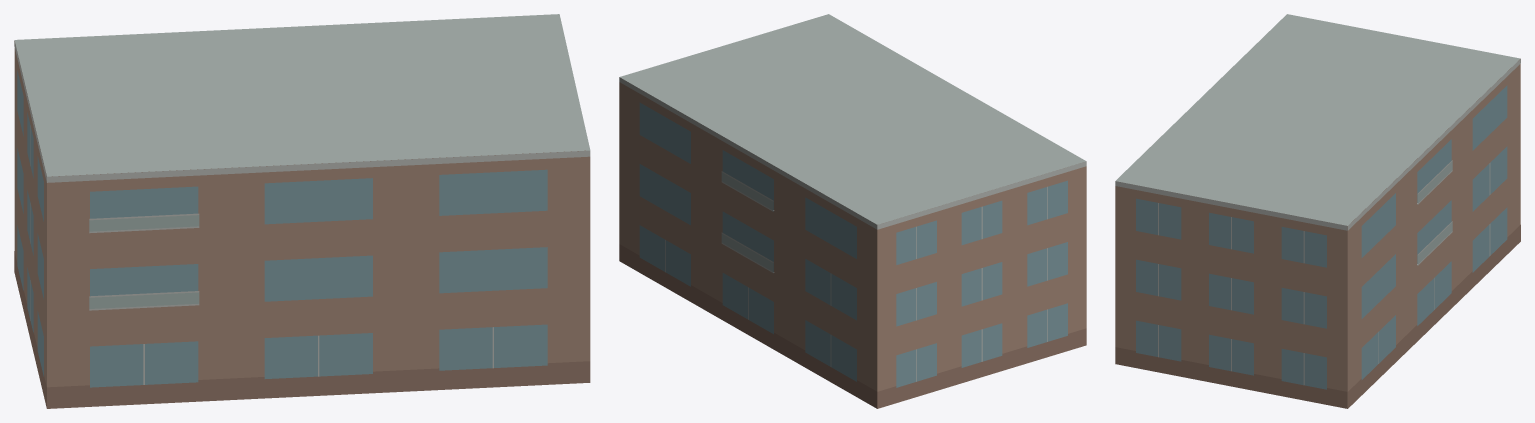
Rendered from survey-upis-32530888.glb.
The picture shows the model from 3 angles, left to right: view 1: azimuth 30°, elevation 25°; view 2: azimuth 150°, elevation 25°; view 3: azimuth 270°, elevation 25°; orthographic projection. The views are drawn at different scales.
Parts seen in each view (by area): view 1: survey-upis-32530888.tmp; view 2: survey-upis-32530888.tmp; view 3: survey-upis-32530888.tmp.
Boxes of the visible parts, left/top/right/bottom form: survey-upis-32530888.tmp: left=14, top=14, right=590, bottom=408; survey-upis-32530888.tmp: left=619, top=14, right=1086, bottom=408; survey-upis-32530888.tmp: left=1115, top=14, right=1520, bottom=408.
Bounding box in the file's own units: 22.73 × 9.15 × 18.39.
